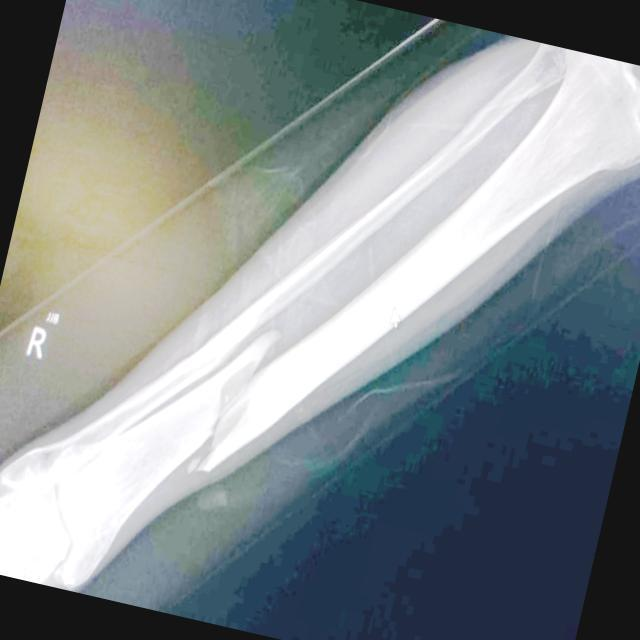Impact Fracture: (196, 351, 262, 475)
